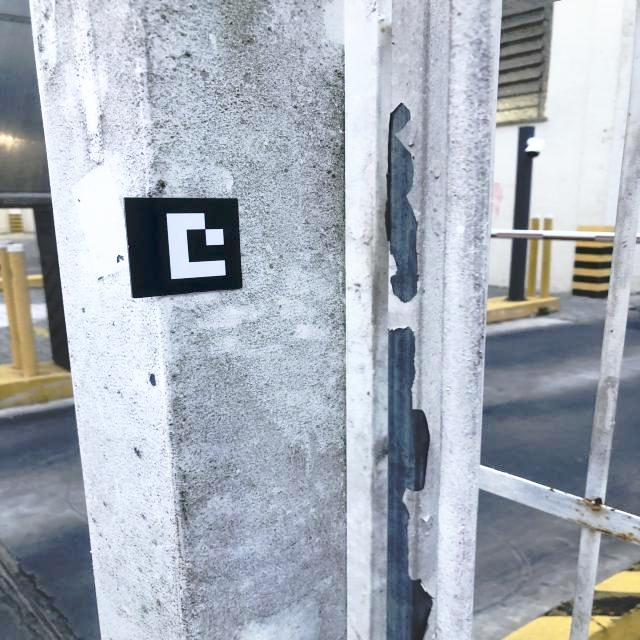Corrosion: (568, 518, 640, 544), (576, 498, 604, 513), (548, 487, 557, 493), (633, 526, 640, 531), (590, 528, 596, 533), (575, 509, 579, 512), (611, 509, 617, 511), (606, 517, 610, 520), (627, 515, 631, 518), (580, 513, 584, 515)
